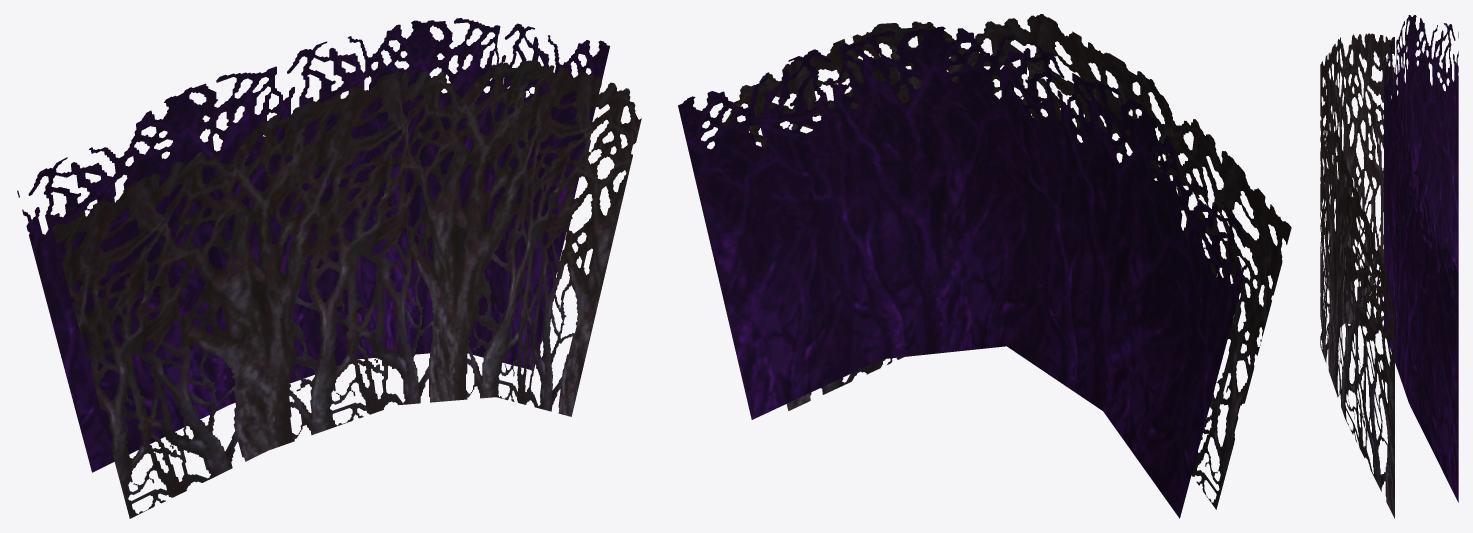
File: EKH_ENTRANCE_PS_EN_TREE_LINE393765.fbx
The picture shows the model from 3 angles, left to right: view 1: azimuth 30°, elevation 25°; view 2: azimuth 150°, elevation 25°; view 3: azimuth 270°, elevation 25°; orthographic projection. The views are drawn at different scales.
Parts seen in each view (by area): view 1: EKH_ENTRANCE_PS_EN_TREE_LINE393765; view 2: EKH_ENTRANCE_PS_EN_TREE_LINE393765; view 3: EKH_ENTRANCE_PS_EN_TREE_LINE393765.
Part boxes in pixels (left/top/right/bottom): EKH_ENTRANCE_PS_EN_TREE_LINE393765: left=17, top=18, right=641, bottom=518; EKH_ENTRANCE_PS_EN_TREE_LINE393765: left=678, top=14, right=1291, bottom=518; EKH_ENTRANCE_PS_EN_TREE_LINE393765: left=1320, top=15, right=1458, bottom=518.
Size of the model in its own units: 353434 by 254664 by 83986.
Materials: 2 (2 with a texture image).
